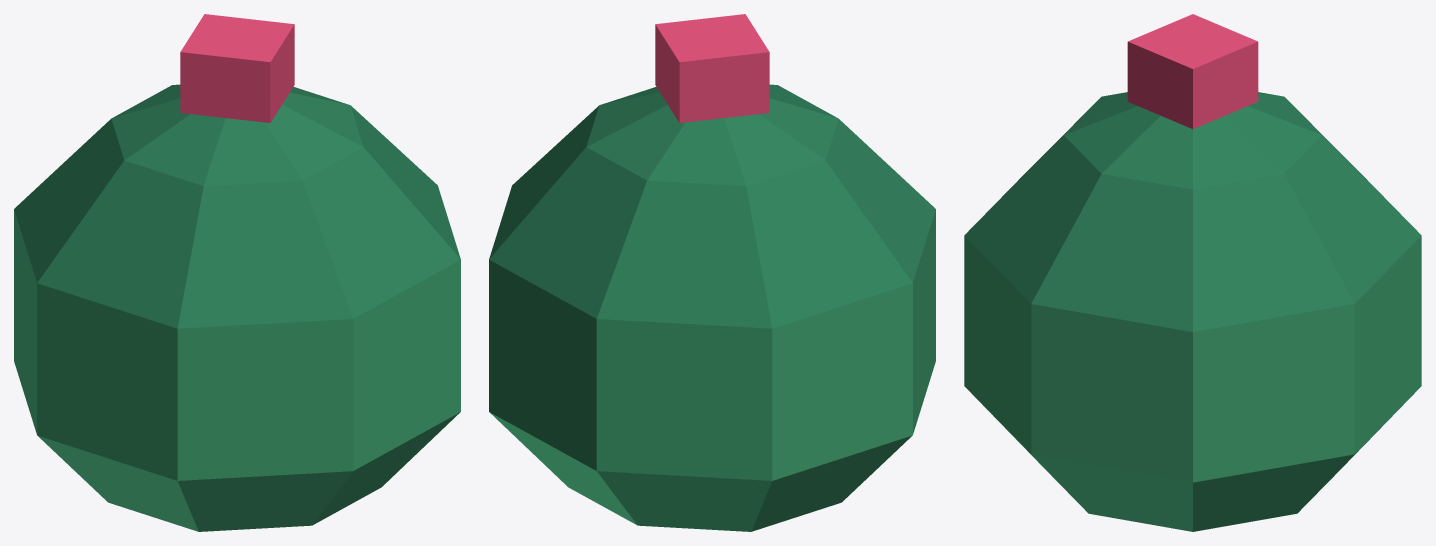
File: CA_Cactus_Barril.obj
3 renders of one model, left to right at view 1: azimuth 30°, elevation 25°; view 2: azimuth 150°, elevation 25°; view 3: azimuth 270°, elevation 25°, orthographic.
Visible parts, largest first — view 1: CA_Cactus_Barril; view 2: CA_Cactus_Barril; view 3: CA_Cactus_Barril.
Part boxes in pixels (x1,y1,x2,y2): CA_Cactus_Barril: [14, 14, 460, 531]; CA_Cactus_Barril: [489, 14, 935, 531]; CA_Cactus_Barril: [964, 14, 1421, 531].
Size of the model in its own units: 1.24 by 1.28 by 1.24.
